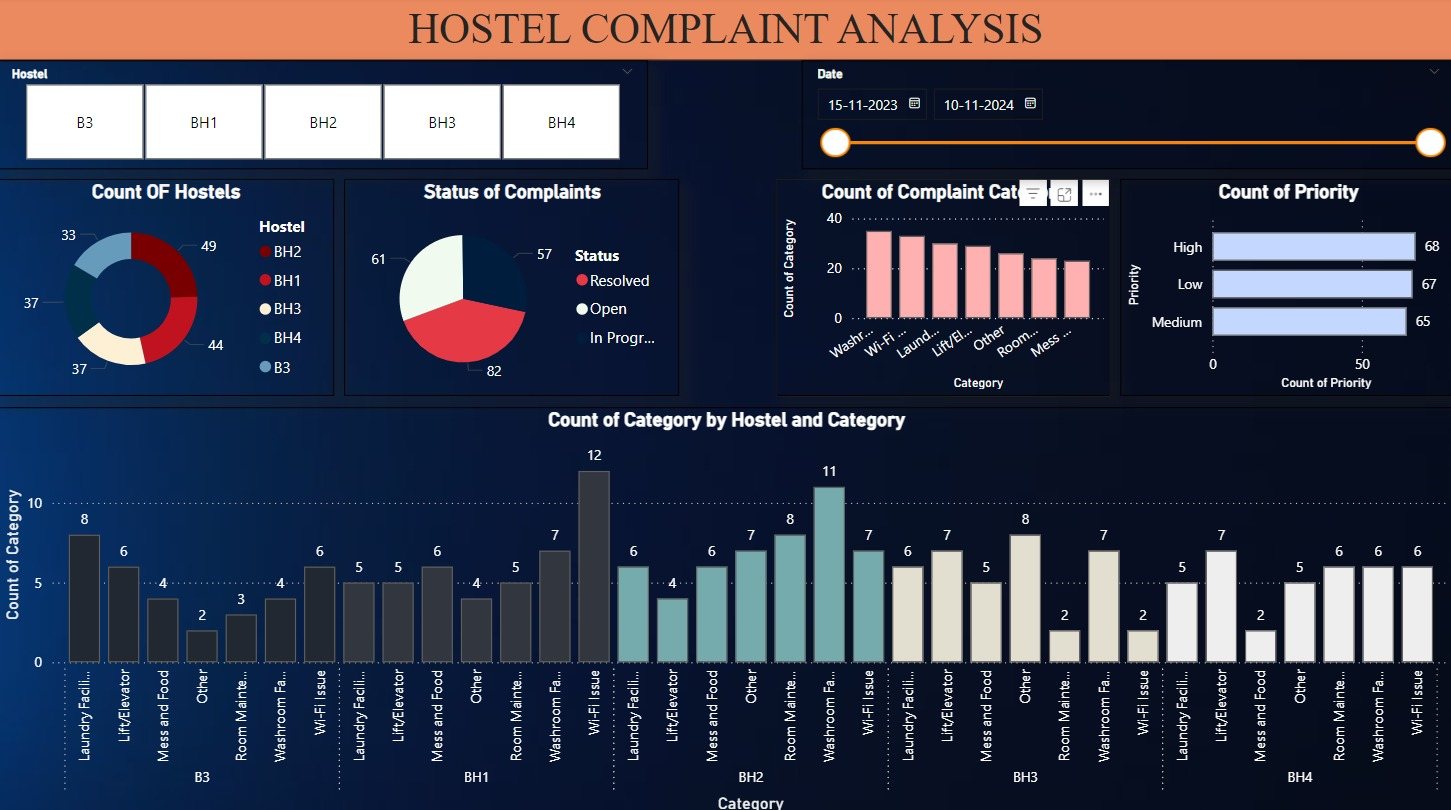

This screenshot's page, from the dashboard's own definition file:
{"tool":"powerbi","page":{"name":"Page 1","canvas":[1280,720],"ordinal":0},"visuals":[{"type":"donutChart","title":"Count OF Hostels","fields":{"Category":["hostel.Hostel"],"Y":["CountNonNull(hostel.Hostel)"]},"box":[0,159.9,296.6,190.3],"z":0},{"type":"textbox","box":[0,0,1279.5,55.7],"z":1000},{"type":"columnChart","title":"Count of Complaint Category","fields":{"Category":["hostel.Category"],"Y":["CountNonNull(hostel.Category)"]},"box":[683.3,159.9,293.6,190.3],"z":2000},{"type":"pieChart","title":"Status of Complaints","fields":{"Category":["hostel.Status"],"Y":["CountNonNull(hostel.Status)"]},"box":[304.7,159.9,293.6,190.3],"z":3000},{"type":"slicer","title":"DATE","fields":{"Values":["hostel.Date"]},"box":[706.6,55.7,572.9,95.2],"z":4000},{"type":"barChart","title":"Count of Priority","fields":{"Category":["hostel.Priority"],"Y":["CountNonNull(hostel.Priority)"]},"box":[986,159.9,293.6,190.3],"z":5000},{"type":"slicer","fields":{"Values":["hostel.Hostel"]},"box":[0,55.7,571.9,95.2],"z":6000},{"type":"clusteredColumnChart","fields":{"Category":["hostel.Hostel","hostel.Category"],"Y":["CountNonNull(hostel.Category)"]},"box":[0,359.4,1279.5,360.4],"z":7000}]}

Visuals, with their boxes in screenshot pixels (x1, y1, x2, y2), scaled from the page's 1280x720 canvas onto the 1451x810 screenshot:
"Count OF Hostels" donutChart: 0/180/336/394
textbox: 0/0/1450/63
"Count of Complaint Category" columnChart: 775/180/1107/394
"Status of Complaints" pieChart: 345/180/678/394
"DATE" slicer: 801/63/1450/170
"Count of Priority" barChart: 1118/180/1450/394
slicer - hostel.Hostel: 0/63/648/170
clusteredColumnChart - hostel.Hostel x hostel.Category: 0/404/1450/809
